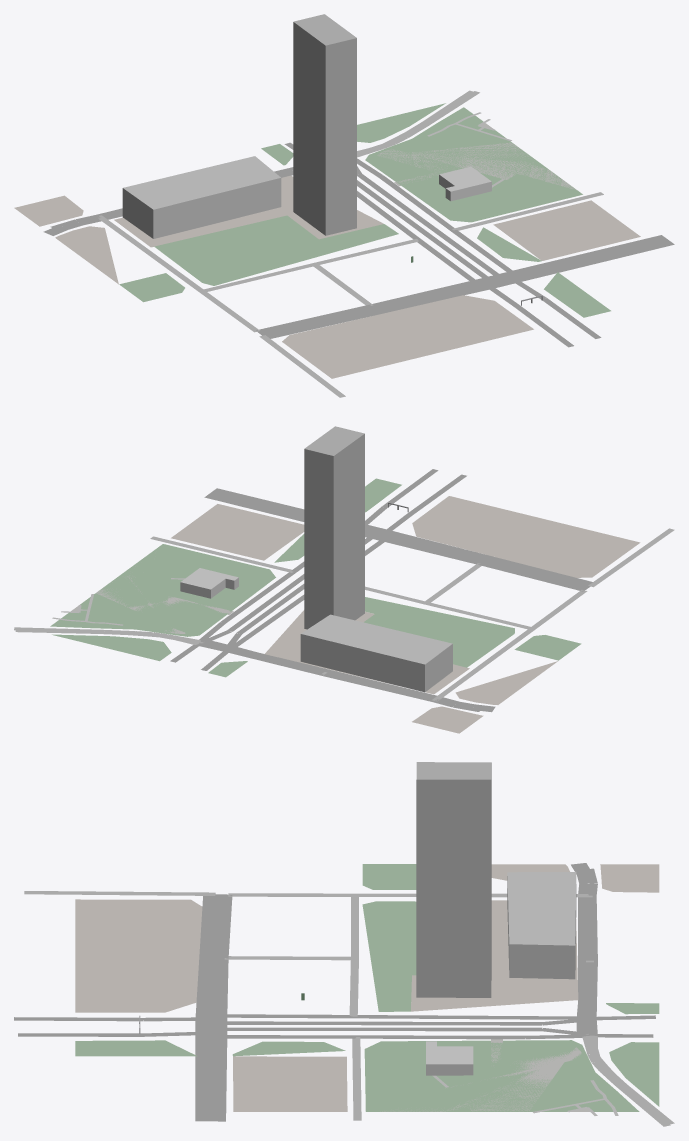
3 renders of one model, top to bottom at view 1: azimuth 30°, elevation 25°; view 2: azimuth 150°, elevation 25°; view 3: azimuth 270°, elevation 25°, orthographic. The views are drawn at different scales.
Bounding box in the file's own units: 534 × 206 × 566.
